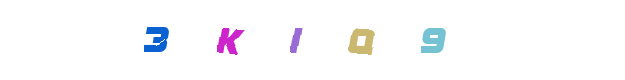3: (117, 0, 197, 80)
9: (380, 0, 460, 80)
I: (272, 0, 352, 80)
K: (208, 0, 288, 80)
Q: (321, 0, 401, 80)
